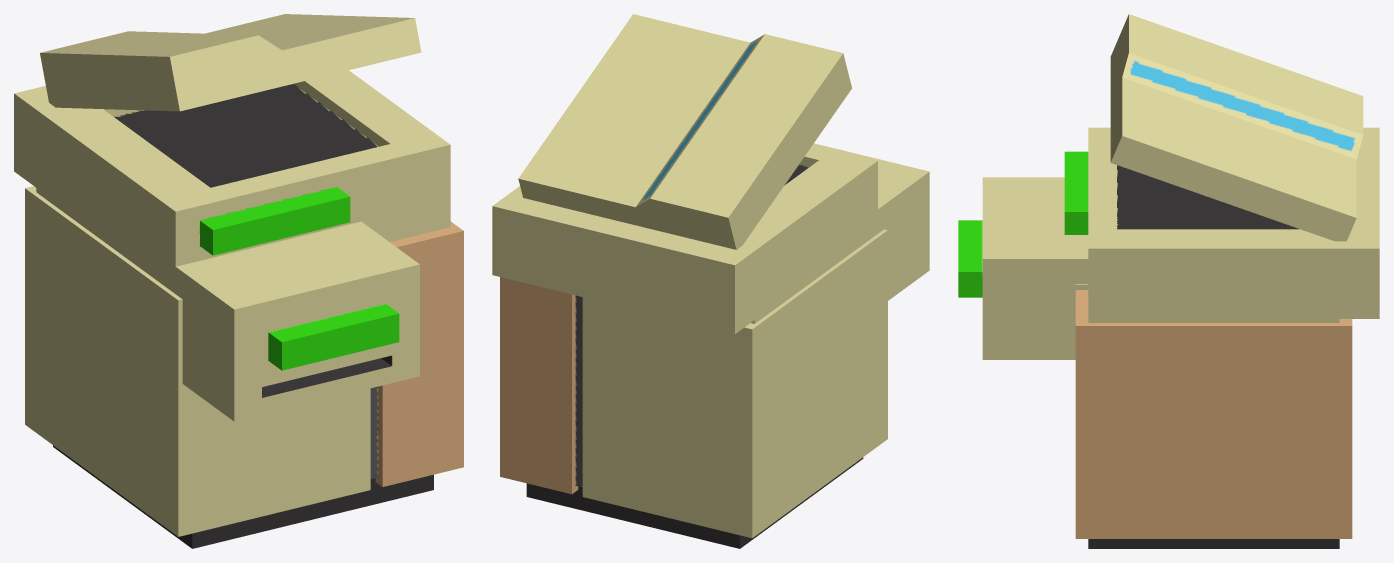
File: PrintPiece.fbx
3 views of the same model, side by side, from view 1: azimuth 30°, elevation 25°; view 2: azimuth 150°, elevation 25°; view 3: azimuth 270°, elevation 25° (orthographic). The views are drawn at different scales.
Visible parts, largest first — view 1: Cube.231; view 2: Cube.231; view 3: Cube.231.
Boxes of the visible parts, bbox=[...] form: Cube.231: bbox=[14, 14, 463, 548]; Cube.231: bbox=[492, 14, 929, 548]; Cube.231: bbox=[958, 14, 1379, 548].
Size of the model in its own units: 375 by 597 by 532.
